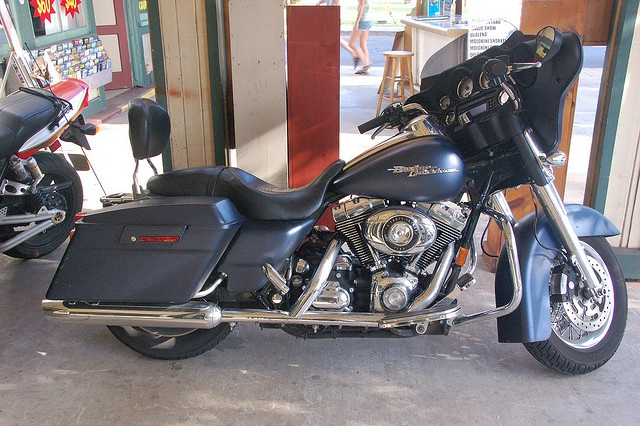non-vehicle: (39, 19, 628, 376), (0, 76, 99, 258)
